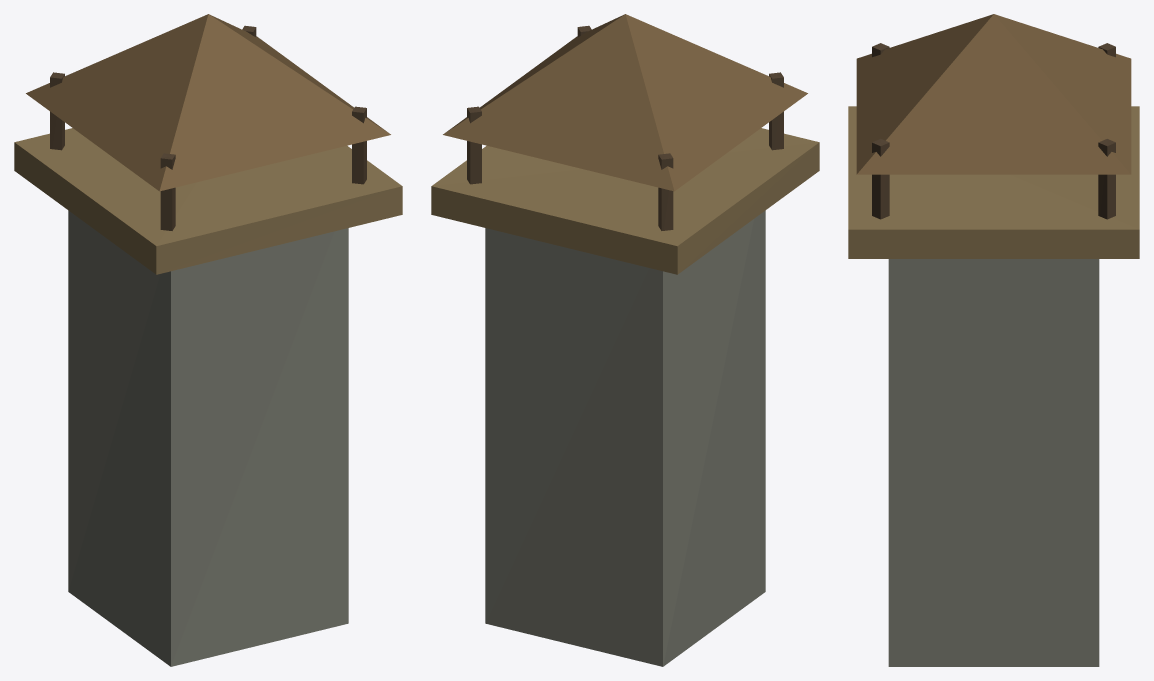
Rendered from abandoned_lookout-far.glb.
The picture shows the model from 3 angles, left to right: view 1: azimuth 30°, elevation 25°; view 2: azimuth 150°, elevation 25°; view 3: azimuth 270°, elevation 25°; orthographic projection. The views are drawn at different scales.
Parts seen in each view (by area): view 1: world-scenery/abandoned_lookout-far; view 2: world-scenery/abandoned_lookout-far; view 3: world-scenery/abandoned_lookout-far.
Boxes of the visible parts, x1,y1,x2,y2 form: world-scenery/abandoned_lookout-far: (14, 14, 402, 666); world-scenery/abandoned_lookout-far: (431, 14, 819, 666); world-scenery/abandoned_lookout-far: (848, 14, 1139, 666).
Bounding box in the file's own units: 1.8 × 4.15 × 1.8.
